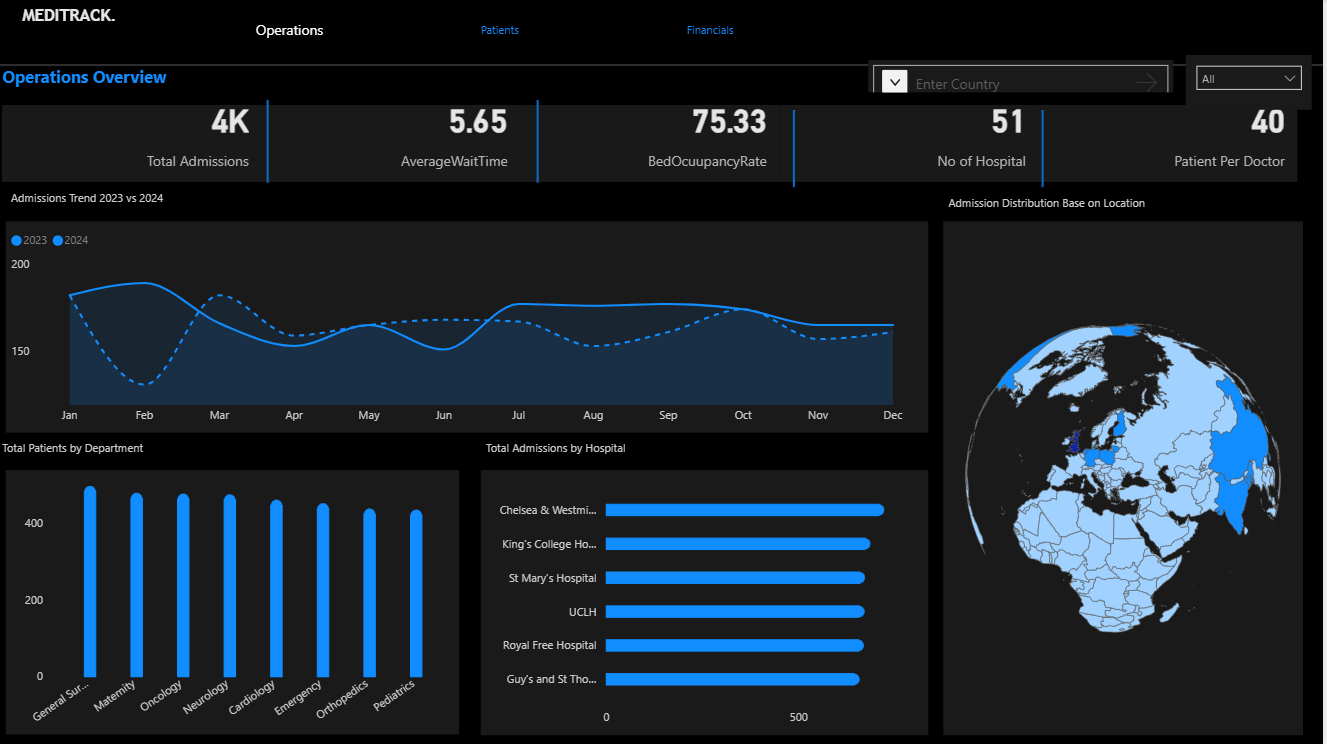

Layout of this report page (visuals, bound fields, positions):
{"tool":"powerbi","page":{"name":"Operations","canvas":[1280,720],"ordinal":0},"visuals":[{"type":"cardVisual","fields":{"Data":["MeasureTable.Total Admissions","MeasureTable.AverageWaitTime","MeasureTable.BedOcuupancyRate","MeasureTable.No of Hospital","CalenderDim.Patient Per Doctor"]},"box":[0,96.5,1260.7,84.5],"z":0},{"type":"areaChart","fields":{"Y":["CalenderDim.Total Admission"],"Series":["CalenderDim.Year"],"Category":["CalenderDim.Month Name"]},"box":[8.4,213.5,890.4,203.9],"z":1000},{"type":"textbox","box":[8.4,176.1,207.5,33.8],"z":2000},{"type":"clusteredColumnChart","fields":{"Y":["CalenderDim.Total Patients"],"Category":["DepartmentDim.DepartmentName"]},"box":[8.2,454.2,437.7,255.2],"z":3000},{"type":"textbox","box":[0,417.2,207.2,30.2],"z":4000},{"type":"clusteredBarChart","fields":{"Y":["CalenderDim.Total Admission"],"Category":["HospitalDim.HospitalName"]},"box":[466.9,453.6,431.9,255.8],"z":5000},{"type":"textbox","box":[466.6,417.2,172.9,30.2],"z":6000},{"type":"textbox","box":[913.3,181,242.5,29],"z":7000},{"type":"shape","box":[216,96.5,90.5,79.6],"z":8000},{"type":"shape","box":[476.5,96.5,90.5,79.6],"z":9000},{"type":"shape","box":[723.9,106.2,90.5,74.8],"z":10000},{"type":"shape","box":[963.9,106.2,90.5,74.8],"z":11000},{"type":"shape","box":[0,36.2,1280,53.1],"z":12000},{"type":"textbox","box":[19.3,0,207.5,36.2],"z":13000},{"type":"slicer","fields":{"Values":["CalenderDim.Year"]},"box":[1147.3,53.1,121.9,53.1],"z":14000},{"type":"textSlicer","fields":{"Values":["HospitalDim.Country"]},"box":[840.9,57.9,294.4,31.4],"z":15000},{"type":"textbox","box":[0,57.9,207.5,33.8],"z":16000},{"type":"pageNavigator","box":[185.8,3.6,599.6,49.5],"z":17000},{"type":"shapeMap","fields":{"Value":["MeasureTable.Total Admissions"],"Category":["HospitalDim.Country"]},"box":[913.3,213.5,347.5,495.8],"z":18000}]}

Visuals, with their boxes in screenshot pixels (x1, y1, x2, y2), scaled from the page's 1280x720 canvas onto the 1327x744 screenshot:
cardVisual - MeasureTable.Total Admissions x MeasureTable.AverageWaitTime: 0 100 1307 187
areaChart - CalenderDim.Total Admission x CalenderDim.Year: 9 221 932 431
textbox: 9 182 224 217
clusteredColumnChart - CalenderDim.Total Patients x DepartmentDim.DepartmentName: 9 469 462 733
textbox: 0 431 215 462
clusteredBarChart - CalenderDim.Total Admission x HospitalDim.HospitalName: 484 469 932 733
textbox: 484 431 663 462
textbox: 947 187 1198 217
shape: 224 100 318 182
shape: 494 100 588 182
shape: 750 110 844 187
shape: 999 110 1093 187
shape: 0 37 1326 92
textbox: 20 0 235 37
slicer - CalenderDim.Year: 1189 55 1316 110
textSlicer - HospitalDim.Country: 872 60 1177 92
textbox: 0 60 215 95
pageNavigator: 193 4 814 55
shapeMap - MeasureTable.Total Admissions x HospitalDim.Country: 947 221 1307 733
